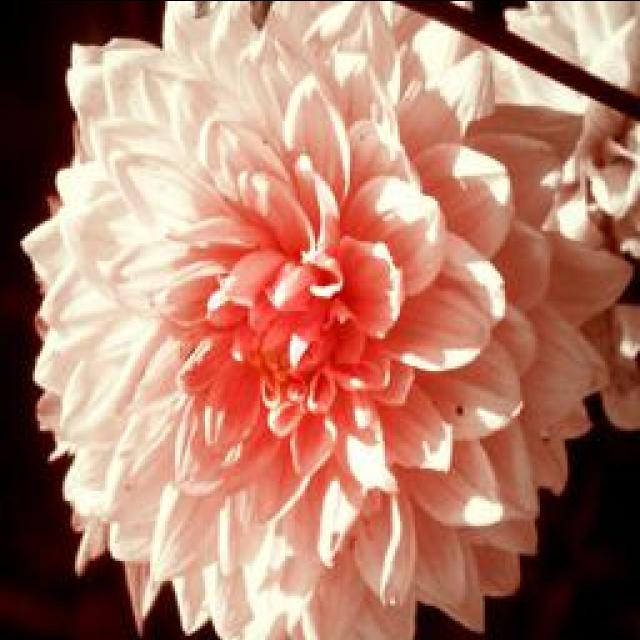carnation: (27, 0, 608, 640)
